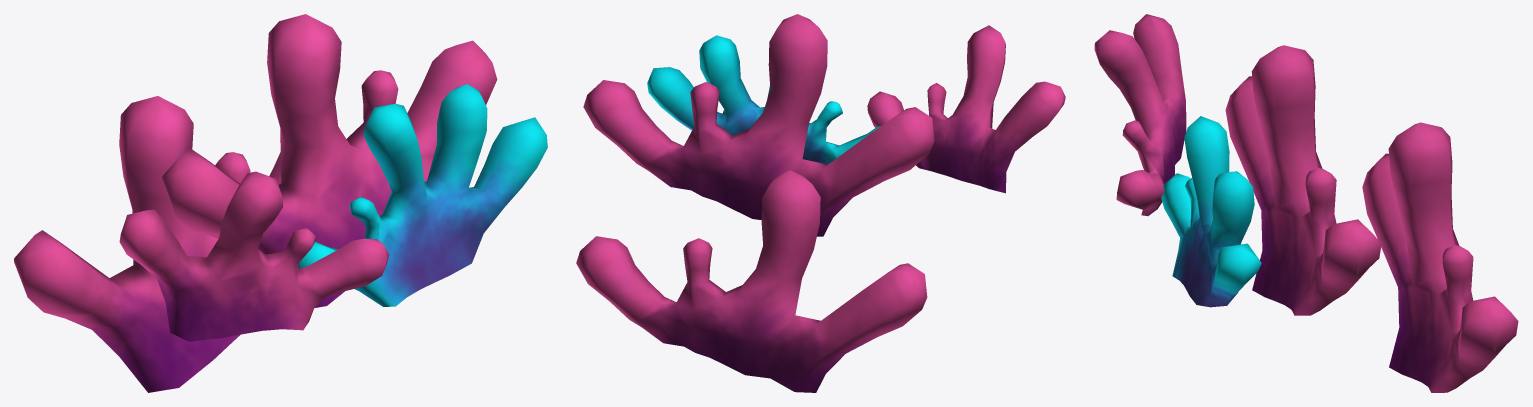
Rendered from Cartoon Seaweed_13-2-20.fbx.
The picture shows the model from 3 angles, left to right: view 1: azimuth 30°, elevation 25°; view 2: azimuth 150°, elevation 25°; view 3: azimuth 270°, elevation 25°; orthographic projection. The views are drawn at different scales.
Visible parts, largest first — view 1: Cartoon Seaweed_13.2.20; view 2: Cartoon Seaweed_13.2.20; view 3: Cartoon Seaweed_13.2.20.
Part boxes in pixels (bbox=[...]): Cartoon Seaweed_13.2.20: bbox=[14, 14, 547, 392]; Cartoon Seaweed_13.2.20: bbox=[576, 14, 1065, 392]; Cartoon Seaweed_13.2.20: bbox=[1094, 14, 1518, 392].
Size of the model in its own units: 14.32 by 11.47 by 12.44.
1 material, 1 textured.
